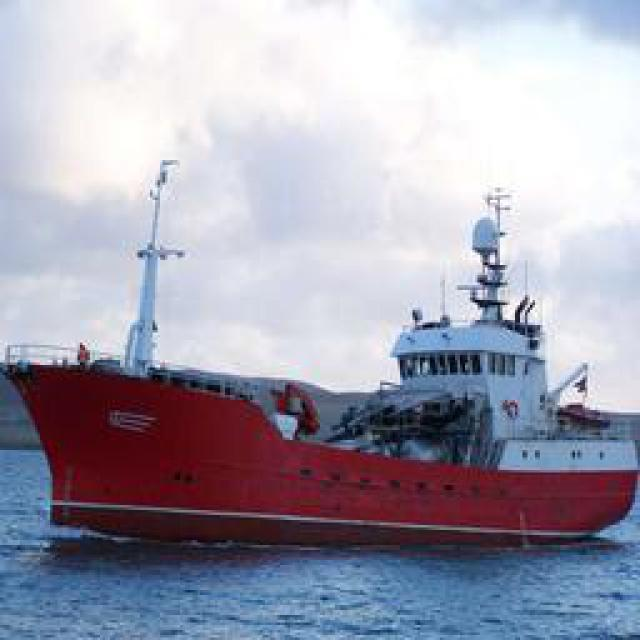Ship: (12, 160, 632, 555)
